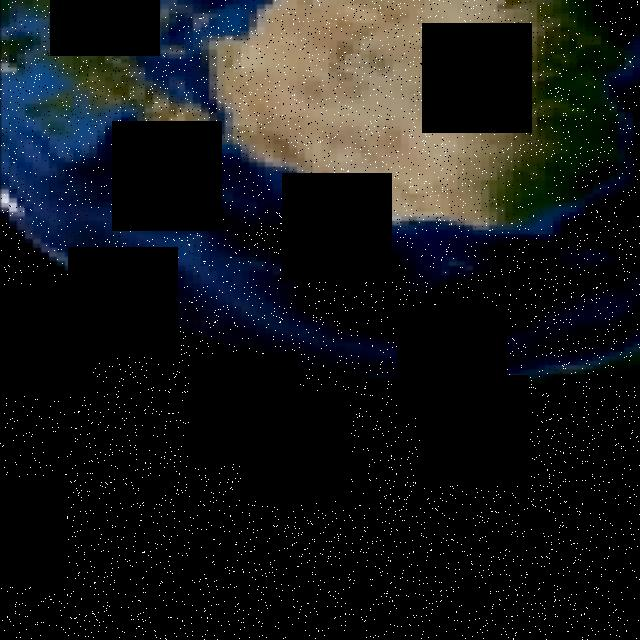Earth: (0, 0, 640, 401)
